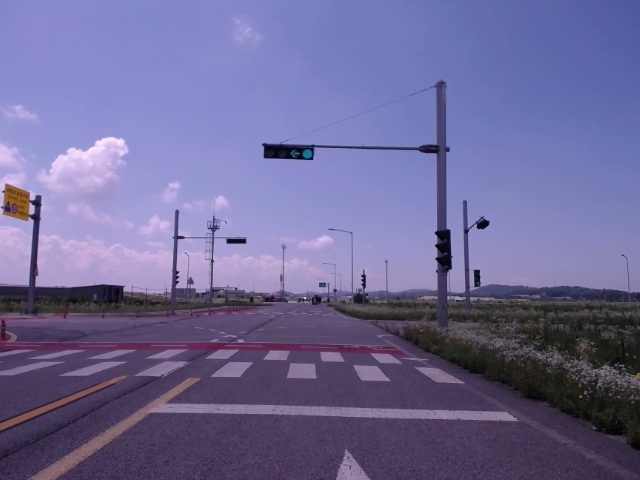all_green_4: (264, 143, 315, 160)
